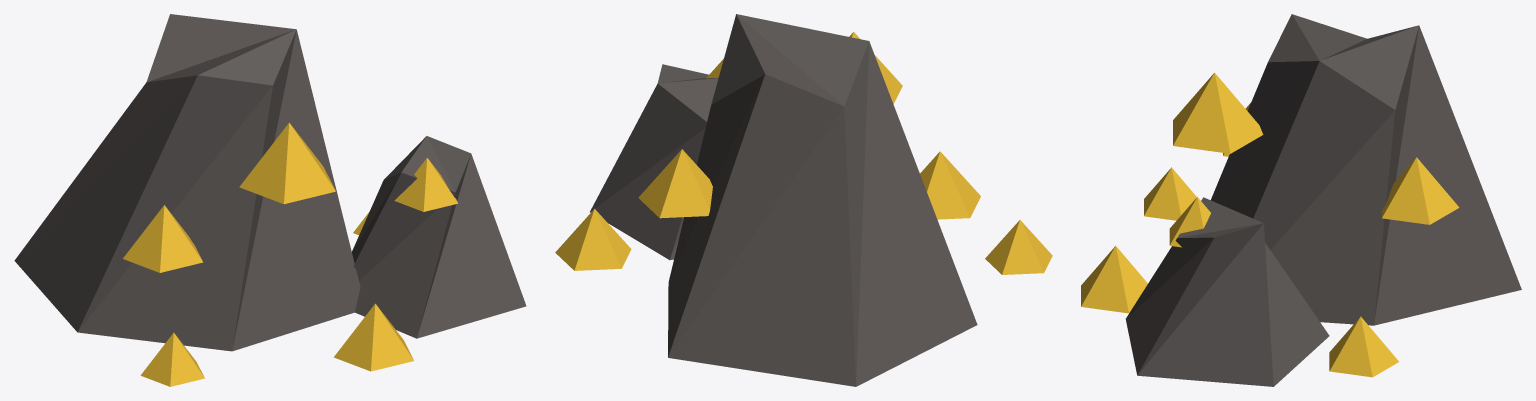
File: gold.obj
3 renders of one model, left to right at view 1: azimuth 30°, elevation 25°; view 2: azimuth 150°, elevation 25°; view 3: azimuth 270°, elevation 25°, orthographic. The views are drawn at different scales.
Parts seen in each view (by area): view 1: Rocks, Gold; view 2: Rocks, Gold; view 3: Rocks, Gold.
Part boxes in pixels (box(x1,y1,x2,y2)): Rocks: box(14, 14, 526, 351); Gold: box(123, 122, 458, 386); Rocks: box(590, 14, 977, 386); Gold: box(555, 32, 1052, 274); Rocks: box(1125, 14, 1521, 386); Gold: box(1081, 72, 1459, 377).
Bounding box in the file's own units: 1.05 × 0.6325 × 1.03.
